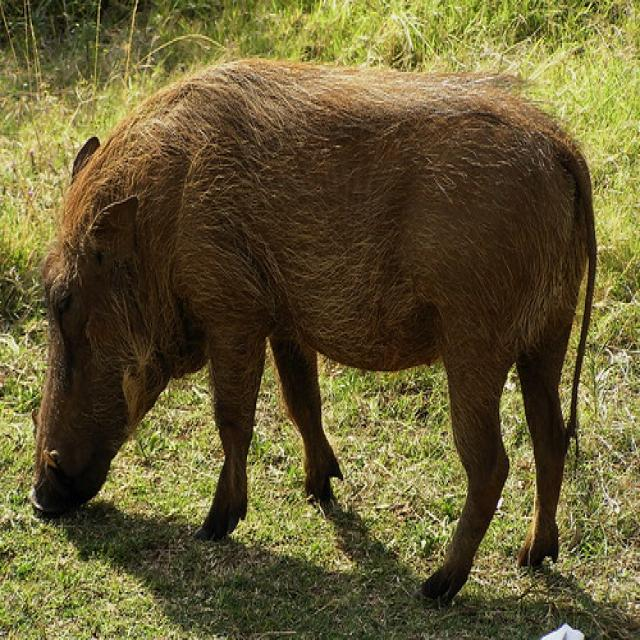boar: (20, 58, 618, 608)
